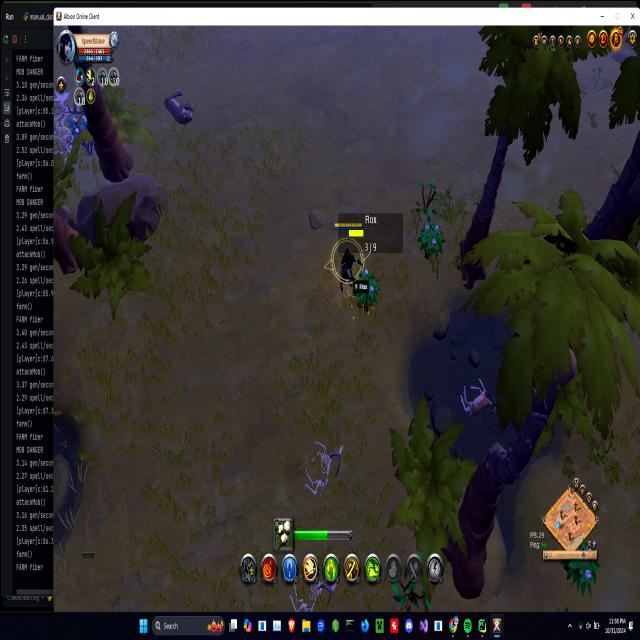hide: (563, 538, 603, 596), (419, 217, 443, 262), (355, 269, 379, 314)
mob: (162, 87, 197, 129)
red: (332, 217, 364, 290)
